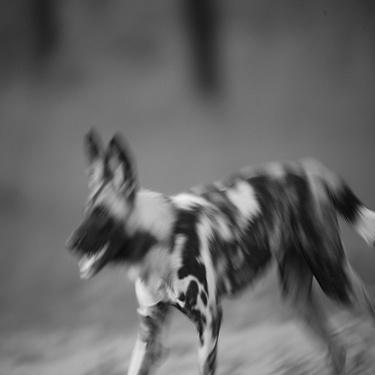dog: (58, 112, 371, 371)
